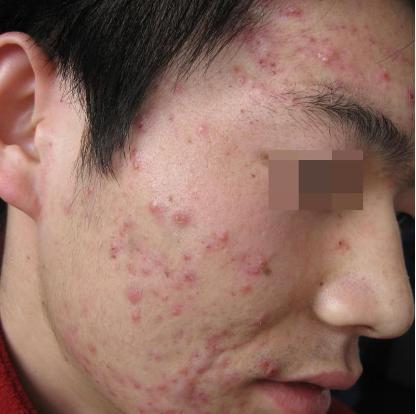Blackheads: (329, 232, 352, 252)
Nodules: (234, 300, 278, 351), (245, 247, 285, 287)
Papules: (142, 193, 170, 218), (168, 204, 195, 228), (210, 226, 231, 245), (191, 116, 209, 136)
acne scar: (119, 278, 155, 307)
pustules: (316, 45, 334, 71)
